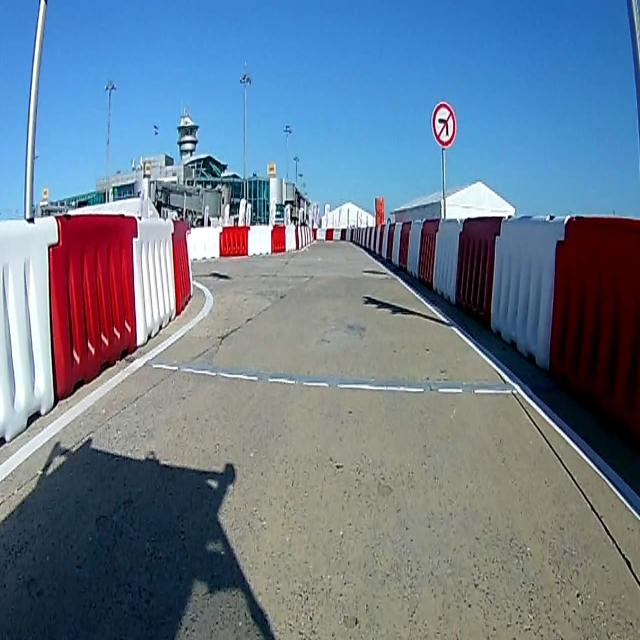soladonulmez: (432, 100, 456, 146)
